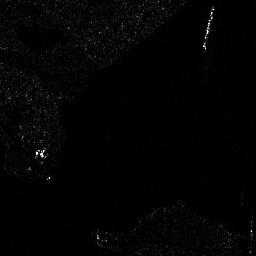ship: (203, 5, 216, 51)
